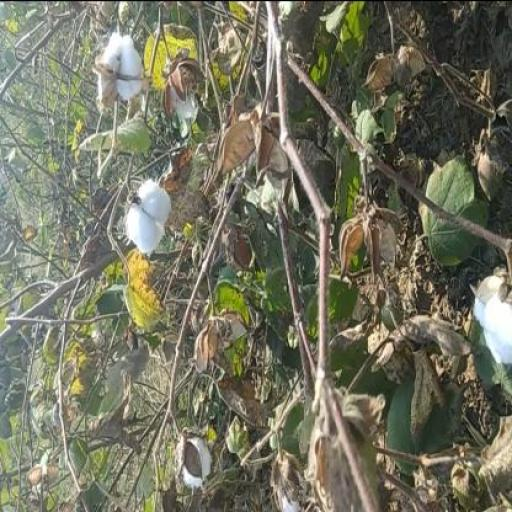cotton_ready: (468, 245, 512, 405), (120, 160, 179, 256), (84, 26, 151, 108), (168, 412, 232, 496)
